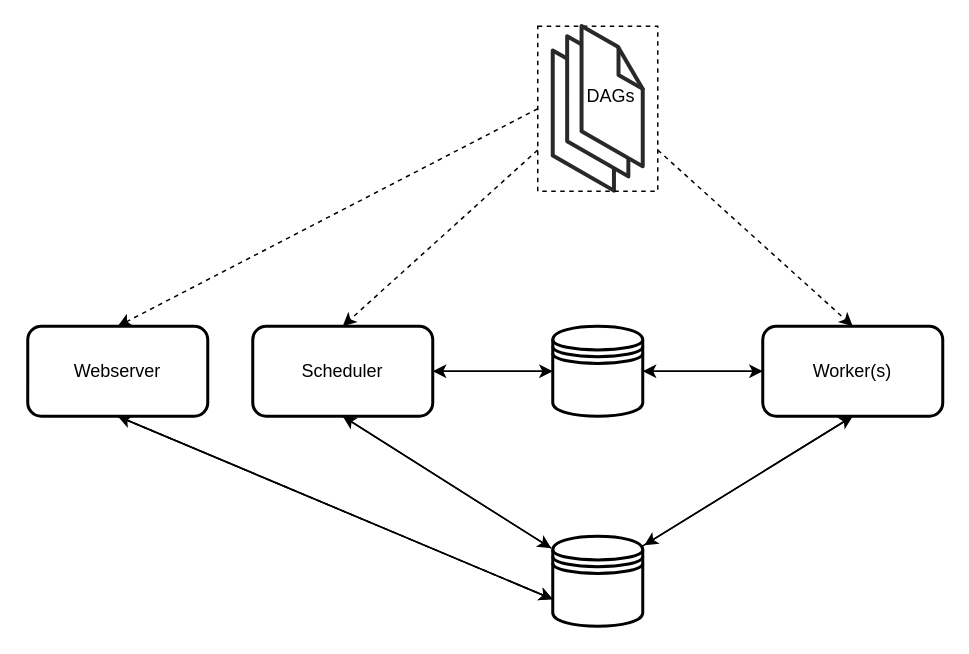
Some shapes in this 969 by 654 pixel diagram are drawn without their labels. Here are the shapes that lost their labels. From the top down, the box of each, then its label:
(550, 324, 644, 417): Redis
(550, 534, 644, 627): Postgres
